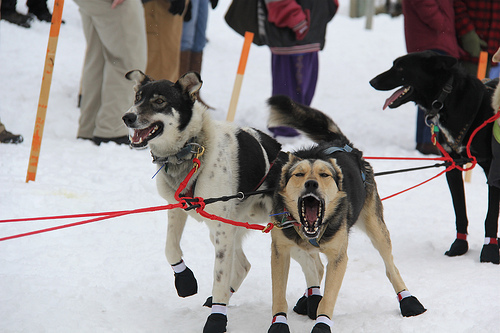dog: (245, 91, 426, 332)
